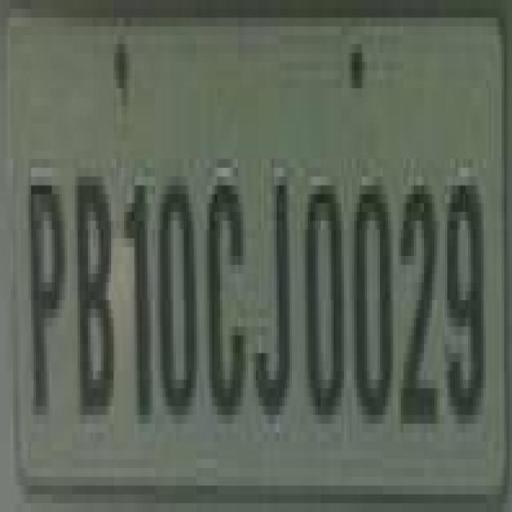number plate: (2, 26, 512, 512)
